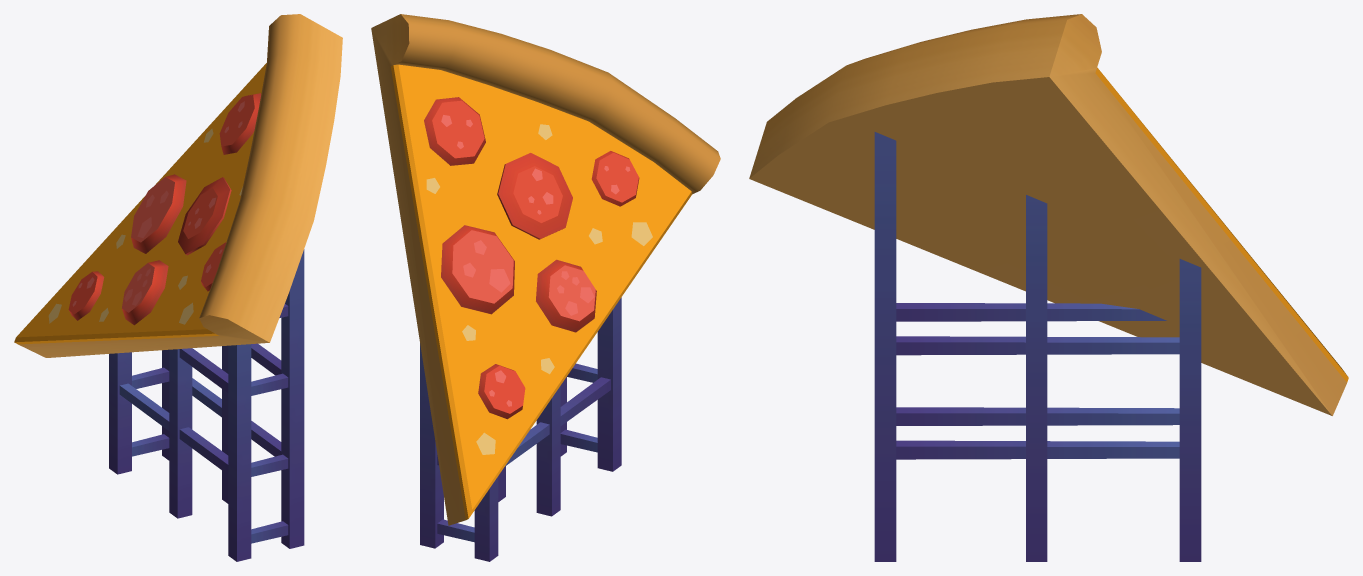
File: PizzaSign_3_B.fbx
3 views of the same model, side by side, from view 1: azimuth 30°, elevation 25°; view 2: azimuth 150°, elevation 25°; view 3: azimuth 270°, elevation 25° (orthographic). The views are drawn at different scales.
Parts seen in each view (by area): view 1: PizzaSign_3_B; view 2: PizzaSign_3_B; view 3: PizzaSign_3_B.
Boxes of the visible parts, x1,y1,x2,y2 form: PizzaSign_3_B: (14,14,342,561); PizzaSign_3_B: (371,14,720,561); PizzaSign_3_B: (749,14,1348,561).
Size of the model in its own units: 192 by 354 by 328.
